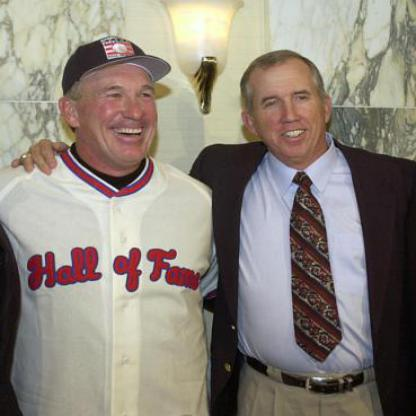face: (75, 42, 163, 168), (250, 51, 329, 163)
